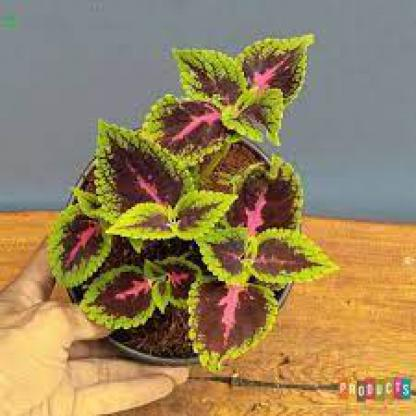Bunga Coleus: (62, 43, 317, 358)
